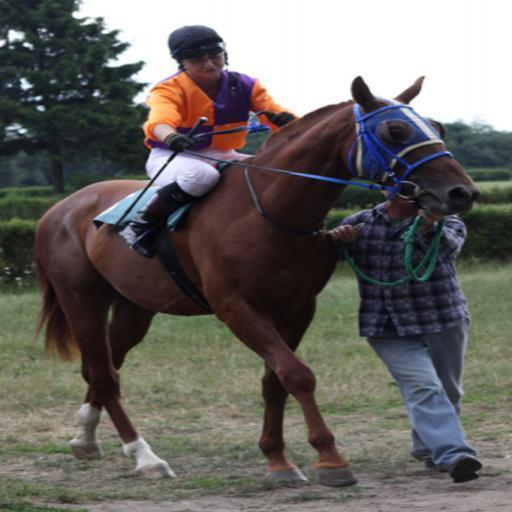horse: (32, 72, 486, 488)
